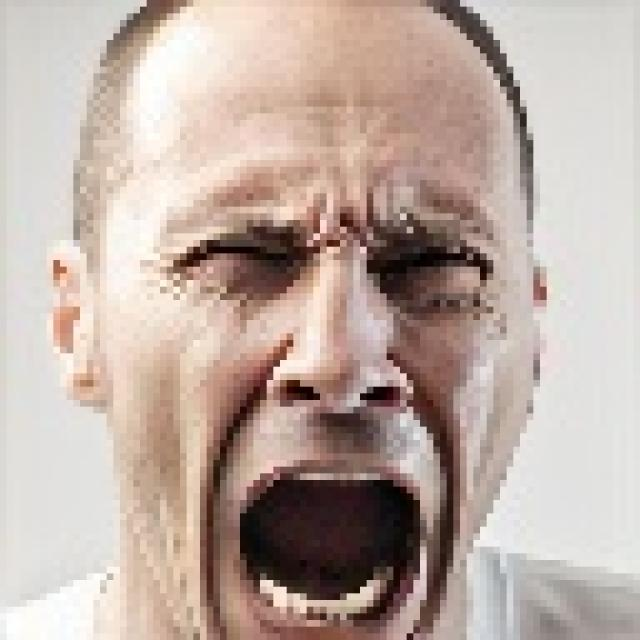angry: (54, 0, 582, 640)
